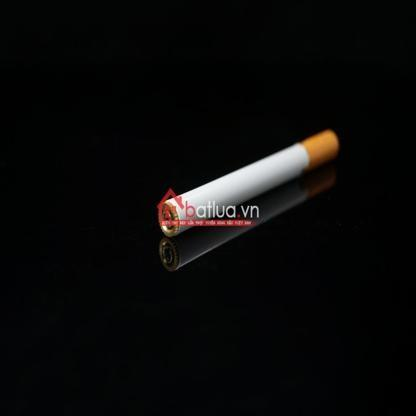trash: (157, 131, 341, 237)
